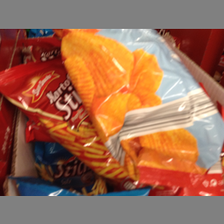chips: (62, 30, 224, 169)
